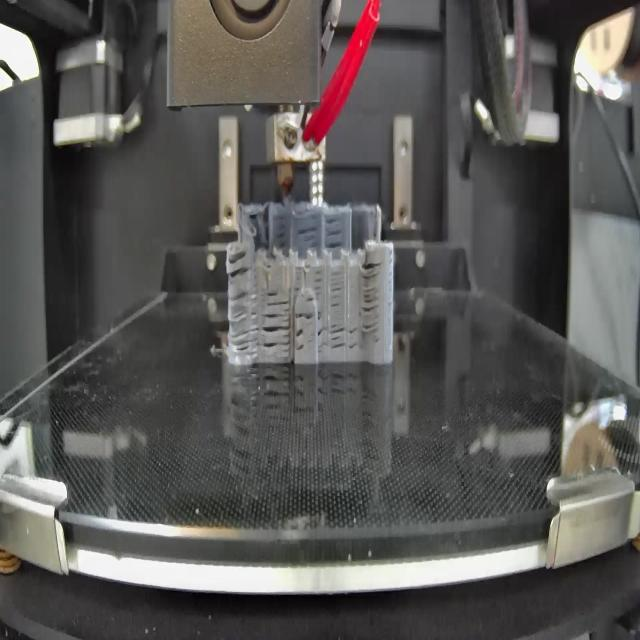cracks: (228, 290, 258, 355), (361, 260, 382, 334), (263, 313, 290, 354), (316, 326, 359, 350), (226, 247, 253, 279), (297, 220, 322, 250), (325, 216, 345, 252), (272, 211, 288, 251), (329, 269, 344, 309), (268, 282, 289, 308), (297, 306, 322, 321), (292, 260, 303, 290), (295, 329, 305, 352), (315, 268, 323, 296), (248, 211, 260, 222), (306, 294, 315, 304)
